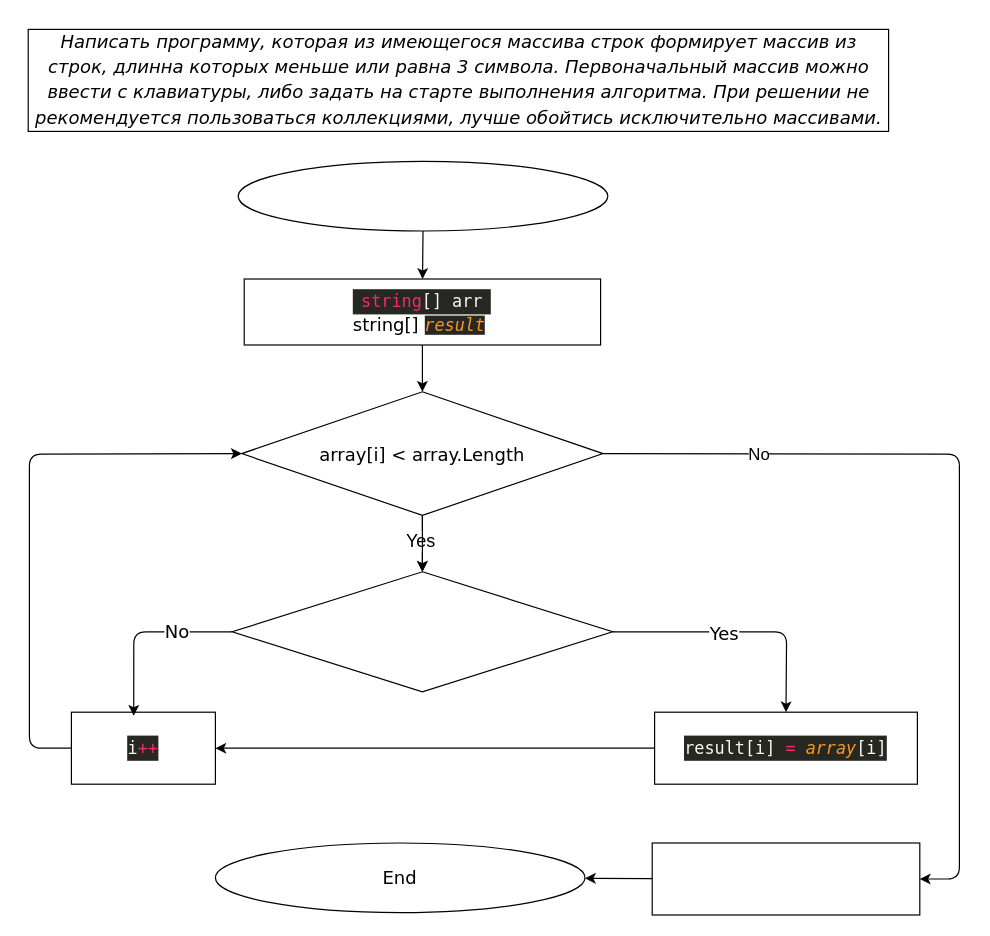
This 990x936 diagram has some shape labels left out. Here are the shapes that lost their labels. From the top down, the box of each, then its label:
(237, 160, 608, 231): Start
(231, 571, 613, 692): array [i] . Length <= 3
(651, 842, 920, 915): return result;
